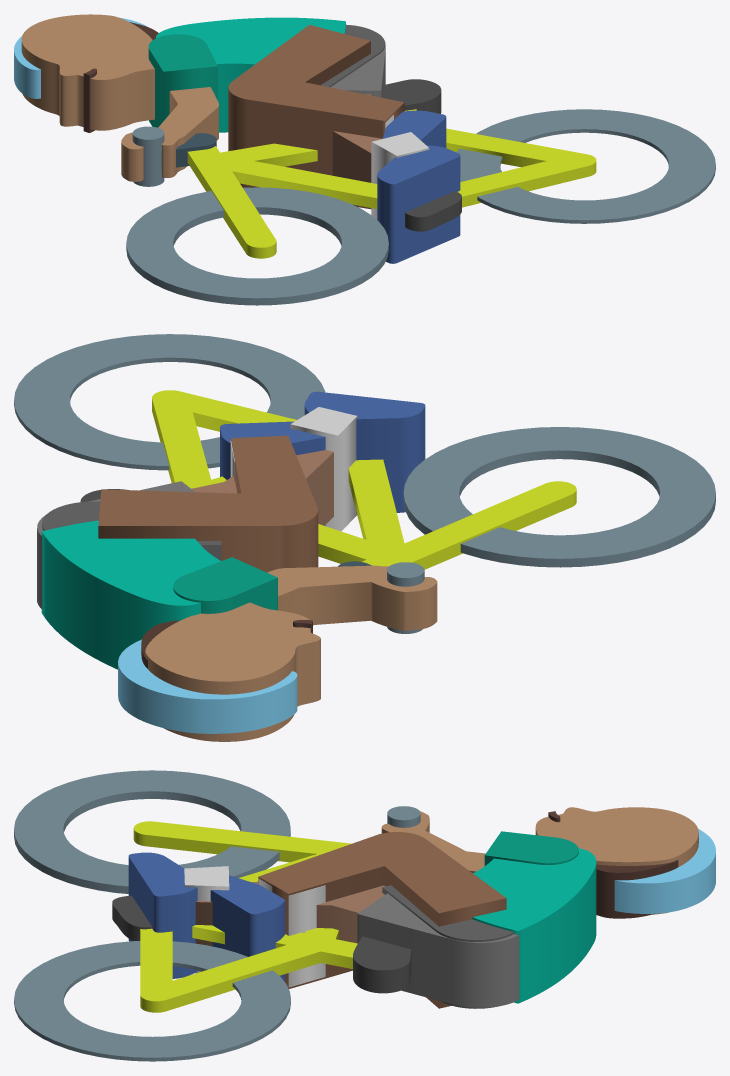
The model's file is emoji_u1f6b4_1f3fd_200d_2642.glb.
The picture shows the model from 3 angles, top to bottom: view 1: azimuth 30°, elevation 25°; view 2: azimuth 150°, elevation 25°; view 3: azimuth 270°, elevation 25°; orthographic projection. The views are drawn at different scales.
Parts seen in each view (by area): view 1: emoji_u1f6b4_1f3fd_200d_2642; view 2: emoji_u1f6b4_1f3fd_200d_2642; view 3: emoji_u1f6b4_1f3fd_200d_2642.
Part boxes in pixels (x1=…): emoji_u1f6b4_1f3fd_200d_2642: x1=14, y1=14, x2=715, y2=305; emoji_u1f6b4_1f3fd_200d_2642: x1=14, y1=334, x2=715, y2=741; emoji_u1f6b4_1f3fd_200d_2642: x1=14, y1=770, x2=715, y2=1061.
Size of the model in its own units: 0.0321 by 0.005 by 0.0334.
